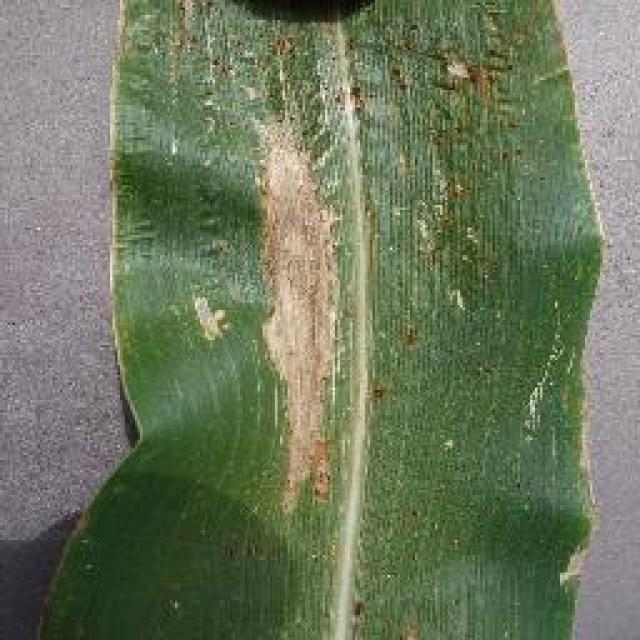Corn___Northern_Leaf_Blight: (2, 2, 628, 640)
